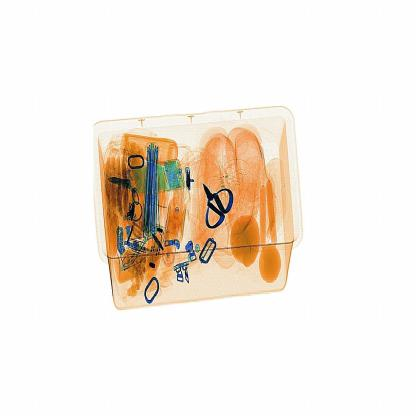gun: (188, 172, 240, 238)
